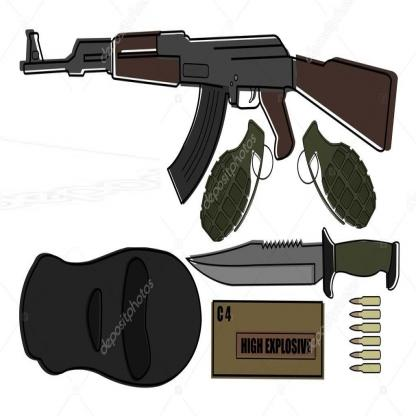Grenade: (199, 118, 274, 243), (297, 119, 376, 230)
Gun: (19, 26, 398, 208)
Knife: (186, 225, 401, 301)
